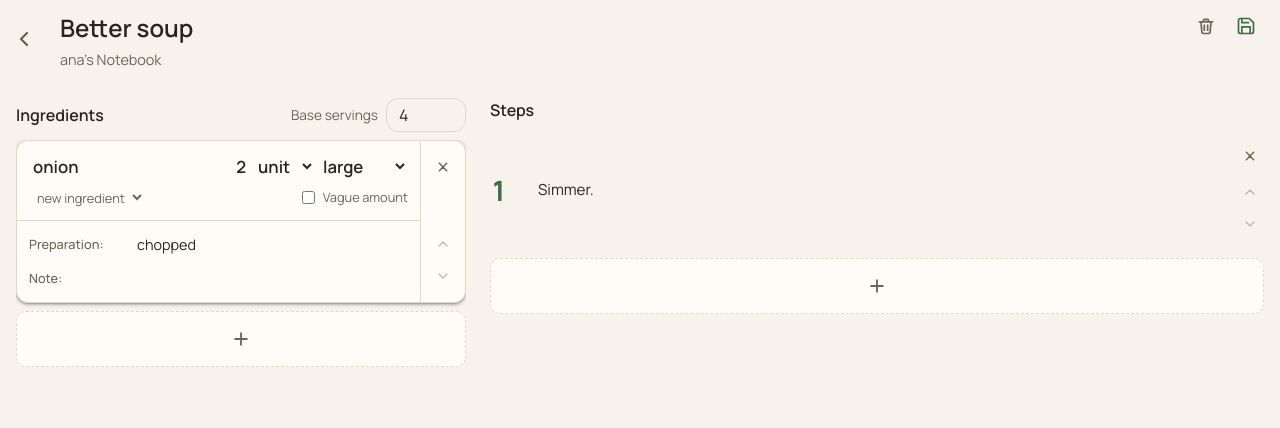
Test: RecipeDraftEditor › Save (spec 020) › keeps the draft and shows a message on 422 invalid_recipe
The width and height of the screenshot is (1280, 428).
Click the button named "Save recipe": [1246, 26] box x1=1228 y1=8 x2=1264 y2=44
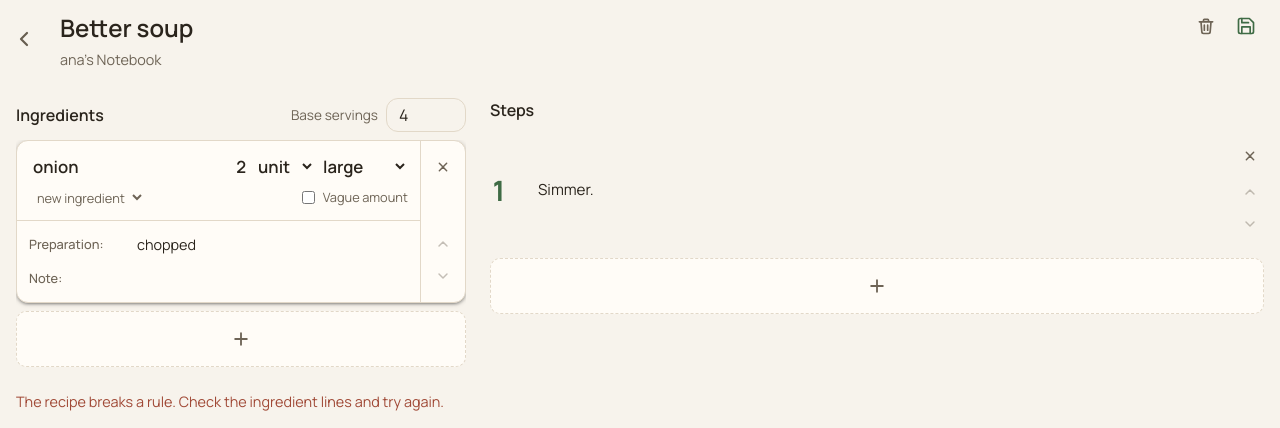
Expected: the text "The recipe breaks a rule. Check the ingredient lines and try again." is shown, x1=16 y1=392 x2=444 y2=411
